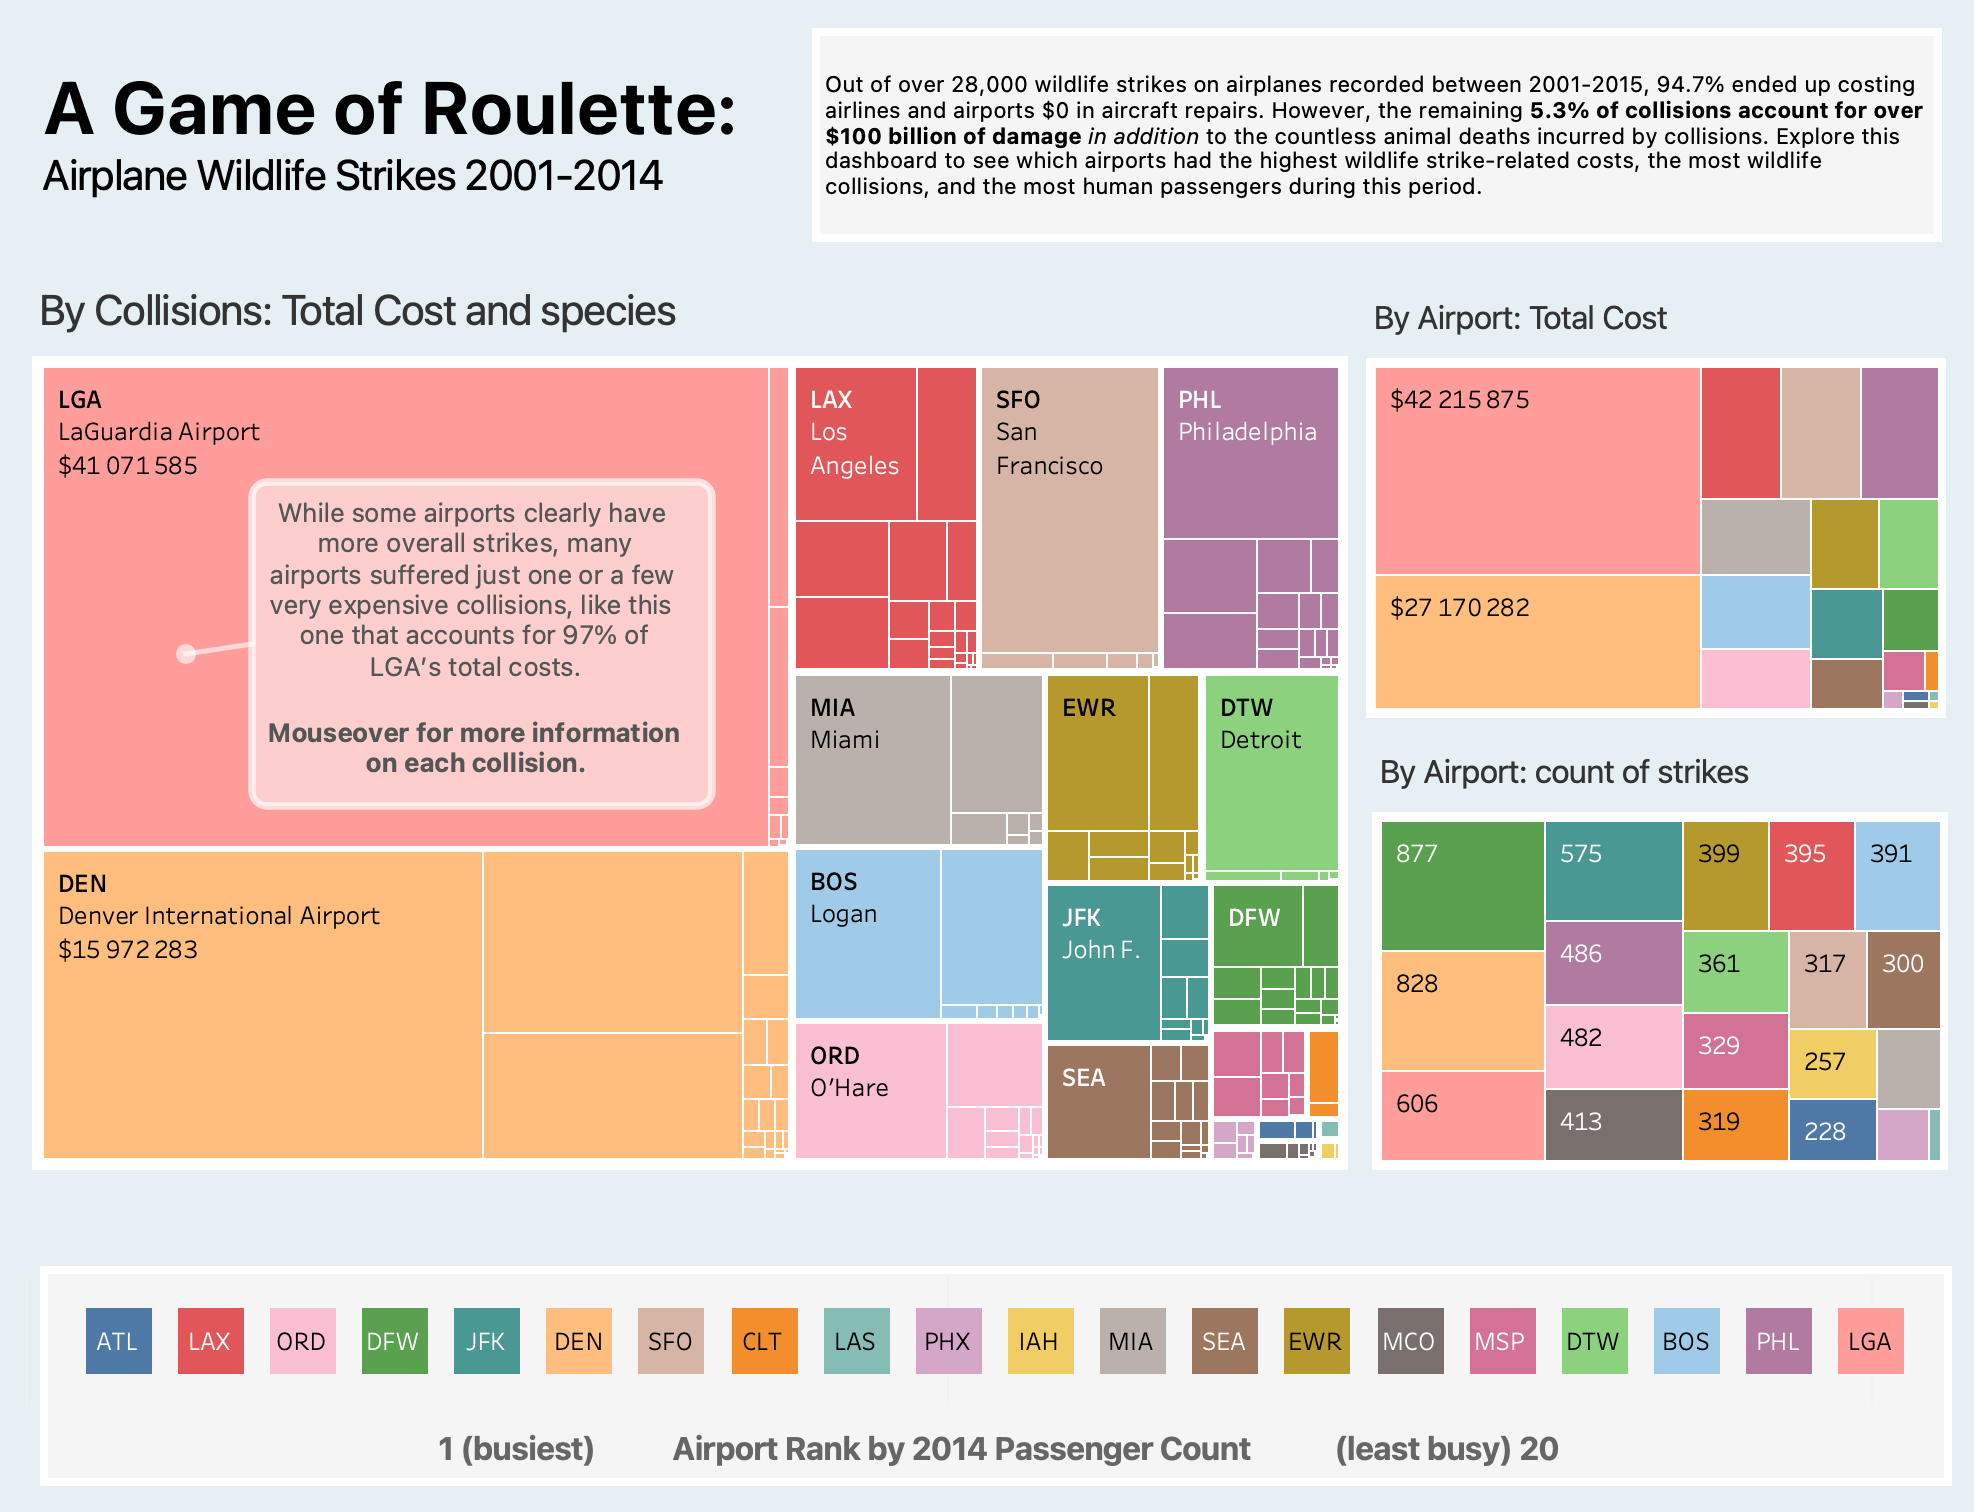

The page's visual inventory and layout, read from the dashboard file:
{"tool":"tableau","page":{"name":"Dashboard 1","canvas":[1000,800],"ordinal":0},"visuals":[{"type":"text","box":[412,40,565,107]},{"type":"text","box":[25,46,398,92]},{"type":"worksheet","title":"total cost&spesices","mark":"Automatic","box":[22,164,658,571]},{"type":"worksheet","title":"total cost","mark":"Automatic","box":[689,171,290,219]},{"type":"worksheet","title":"number of strikes","mark":"Automatic","box":[692,398,288,213]},{"type":"blank","box":[26,659,956,110]},{"type":"text","box":[45,735,921,30]}]}

Visuals, with their boxes on the page's 1000x800 design canvas (x1, y1, x2, y2). These are canvas units, not pixel positions in the 1974x1512 screenshot, which may show the page scaled, cropped or inside an application window:
text: box(412, 40, 977, 147)
text: box(25, 46, 423, 138)
"total cost&spesices" worksheet: box(22, 164, 680, 735)
"total cost" worksheet: box(689, 171, 979, 390)
"number of strikes" worksheet: box(692, 398, 980, 611)
blank: box(26, 659, 982, 769)
text: box(45, 735, 966, 765)
